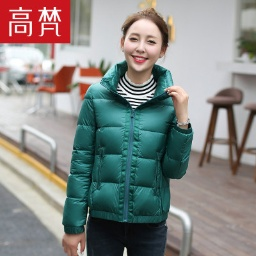face: (119, 5, 174, 73)
